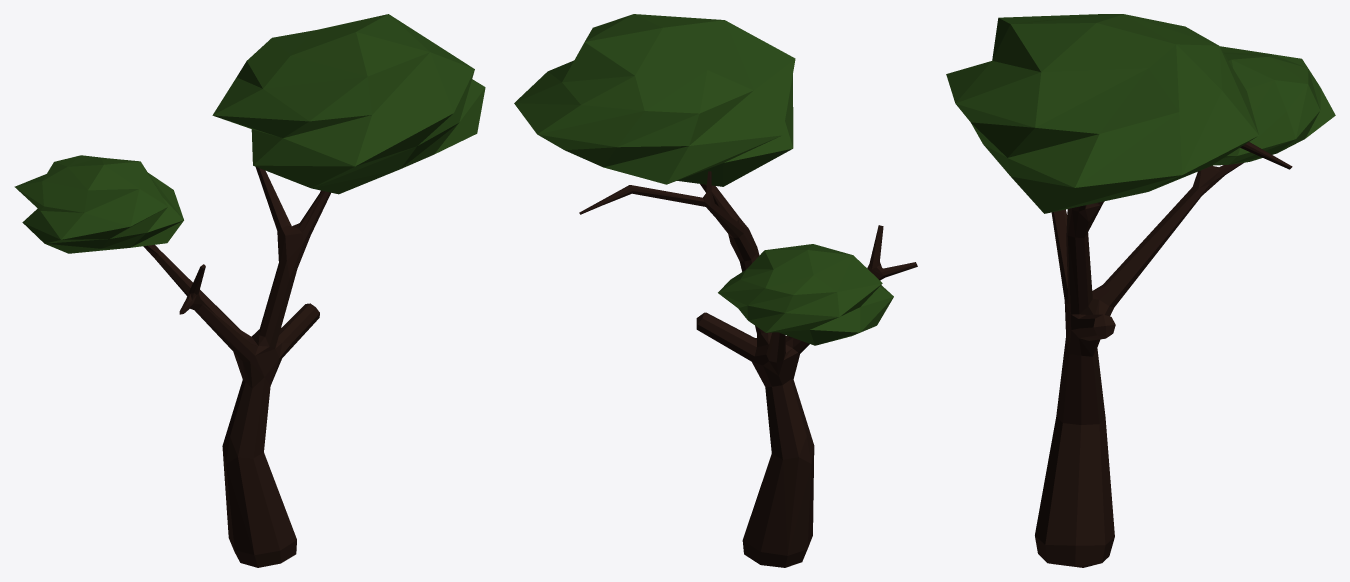
Rendered from SM_Tree04.fbx.
3 views of the same model, side by side, from view 1: azimuth 30°, elevation 25°; view 2: azimuth 150°, elevation 25°; view 3: azimuth 270°, elevation 25° (orthographic). The views are drawn at different scales.
Parts seen in each view (by area): view 1: Tree03; view 2: Tree03; view 3: Tree03.
Boxes of the visible parts, x1,y1,x2,y2 form: Tree03: (14, 14, 485, 567); Tree03: (514, 14, 917, 567); Tree03: (946, 14, 1335, 567).
Size of the model in its own units: 292 by 361 by 214.
